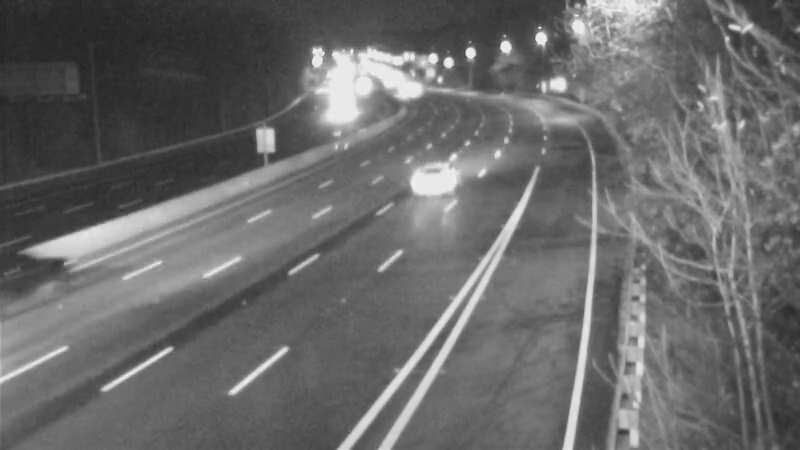vehicle: (399, 138, 479, 218)
